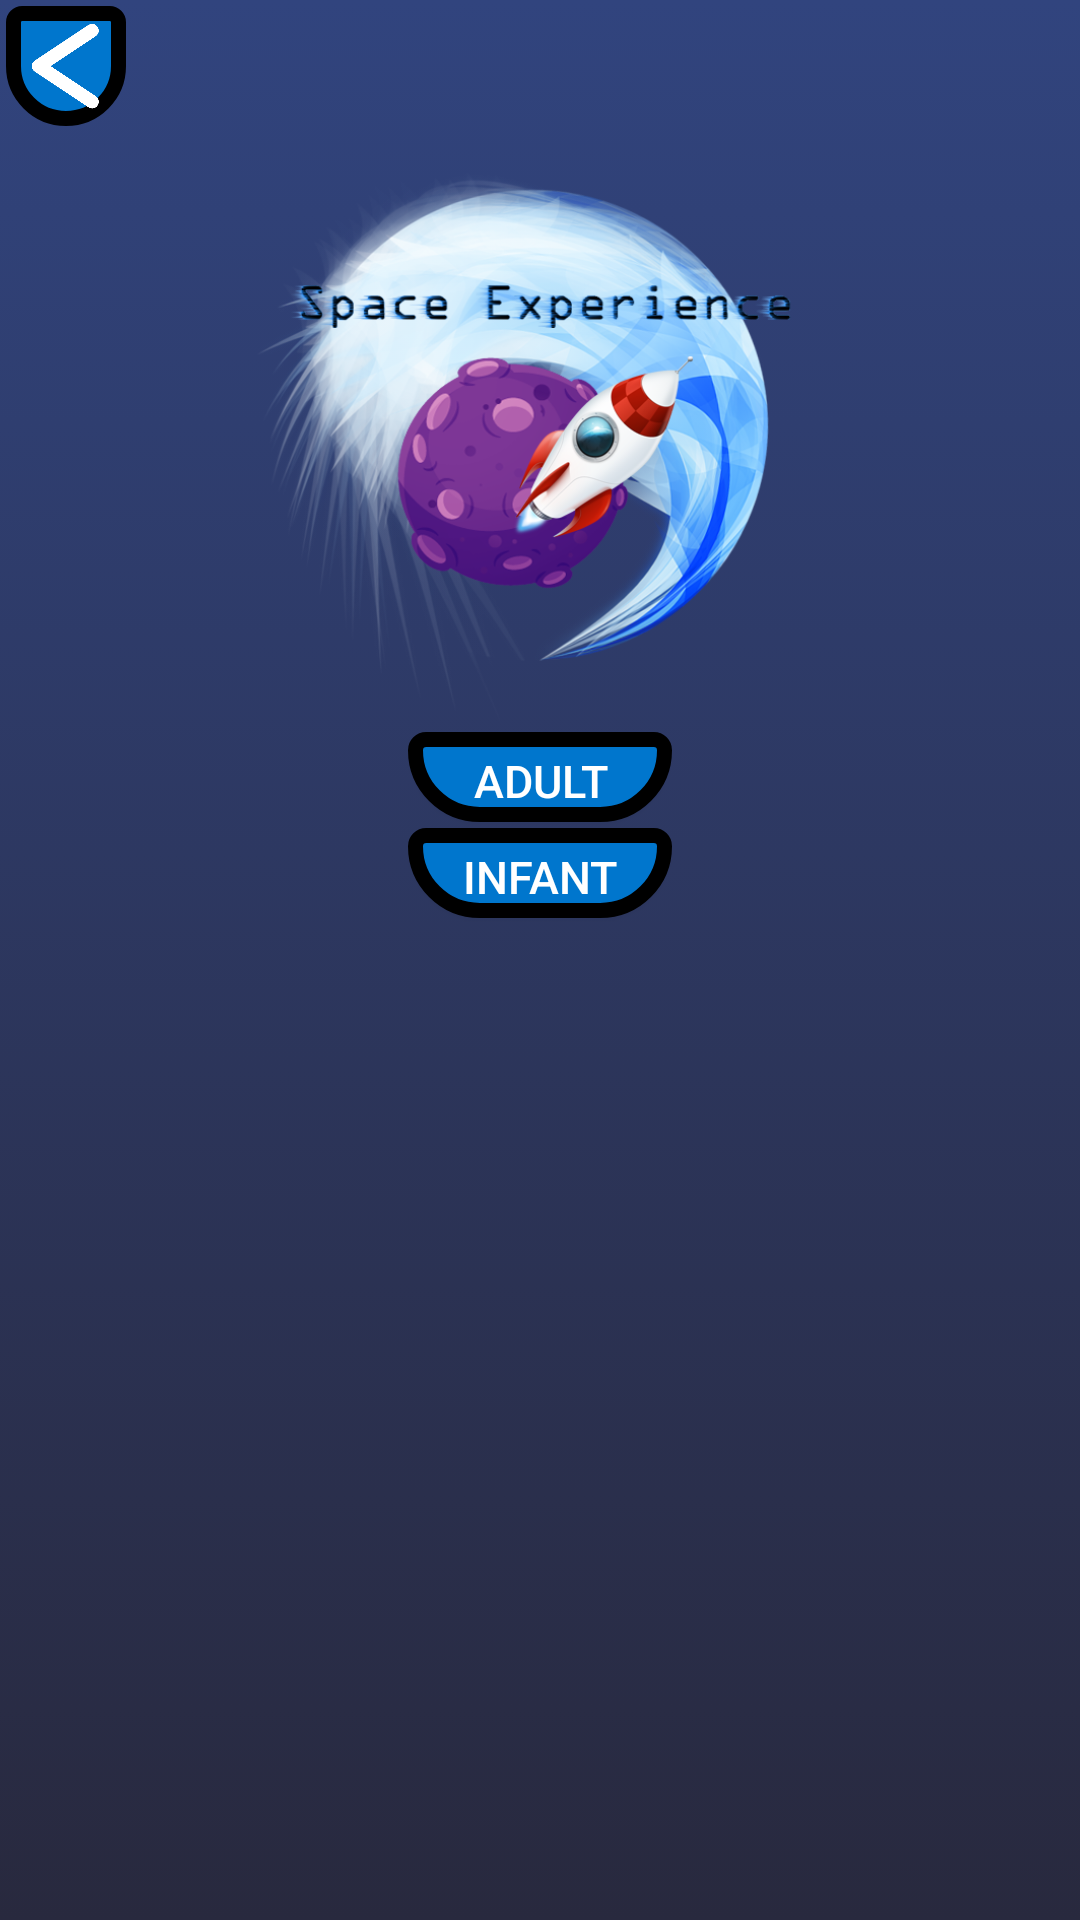

Icons on this 1080x1920 Android screen, each with the point to tap as [x,y]:
back: [66,66]
